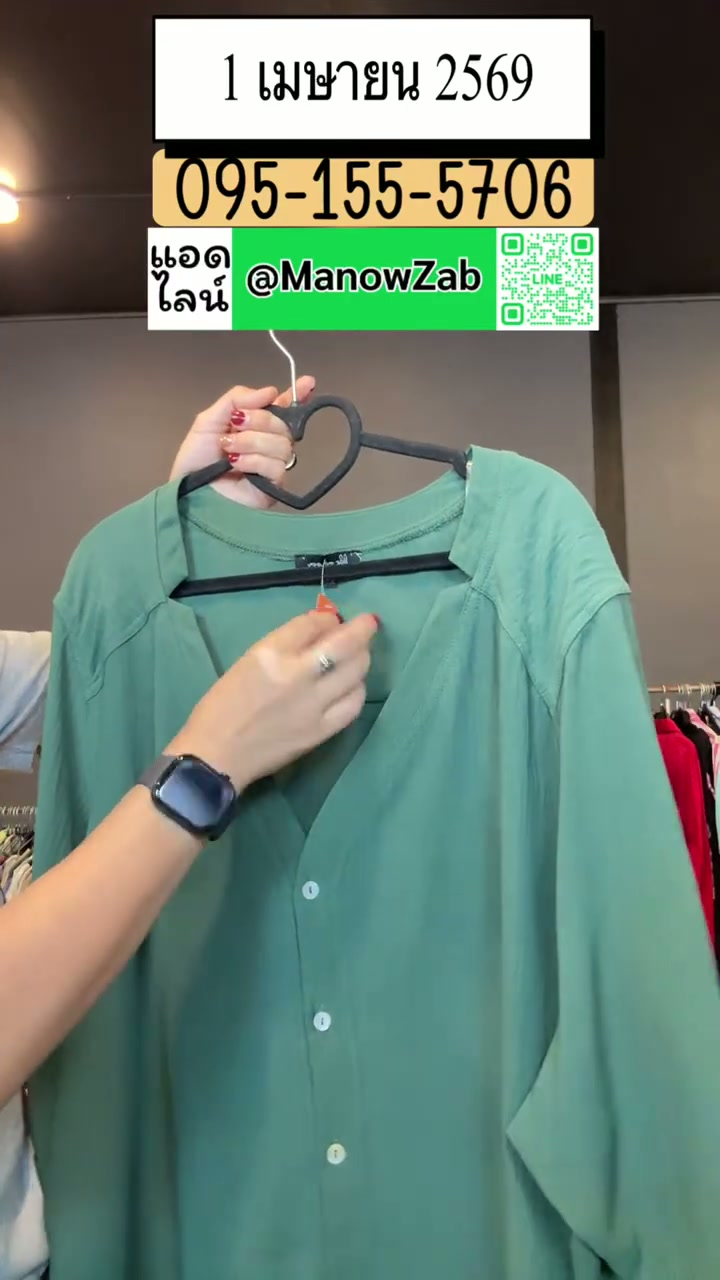display_shirt: (30, 448, 719, 1279)
